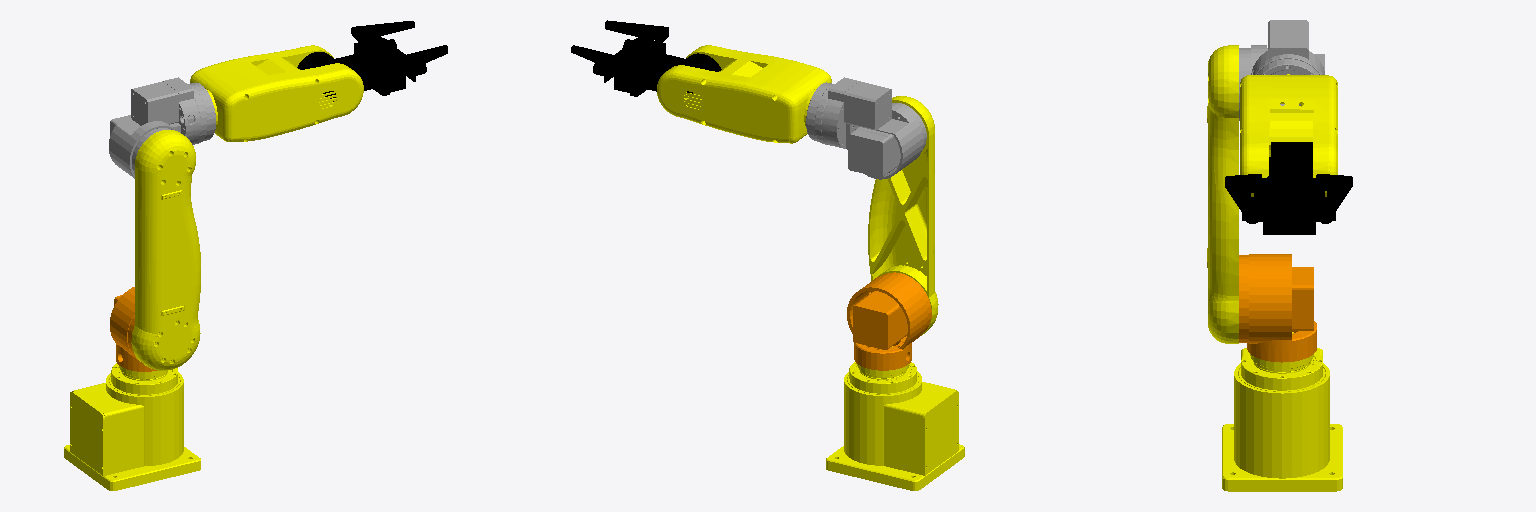
URDF robot description (new_arm):
<?xml version="1.0" encoding="utf-8"?>
<!-- This URDF was automatically created by SolidWorks to URDF Exporter! Originally created by [author] ([email redacted]) 
     Commit Version: 1.6.0-4-g7f85cfe  Build Version: 1.6.7995.38578
     For more information, please see http://wiki.ros.org/sw_urdf_exporter -->
<robot
  name="new_arm">
  <link
    name="base_link">
    <inertial>
      <origin
        xyz="0.00012027184216136 -0.000110225979837793 0.100099668100807"
        rpy="0 0 0" />
      <mass
        value="0.00137242734628835" />
      <inertia
        ixx="4.93979095549687E-07"
        ixy="-7.18253026975473E-23"
        ixz="2.47584030144931E-23"
        iyy="4.93979095549688E-07"
        iyz="9.07370670625977E-25"
        izz="9.85513400197068E-07" />
    </inertial>
    <visual>
      <origin
        xyz="0 0 0"
        rpy="0 0 0" />
      <geometry>
        <mesh
          filename="package://new_arm/meshes/base_link.STL" />
      </geometry>
      <material
        name="">
        <color
          rgba="1 1 0 1" />
      </material>
    </visual>
    <collision>
      <origin
        xyz="0 0 0"
        rpy="0 0 0" />
      <geometry>
        <mesh
          filename="package://new_arm/meshes/base_link.STL" />
      </geometry>
    </collision>
  </link>
  <link
    name="1_Link">
    <inertial>
      <origin
        xyz="0.000120271842160374 -0.0447893653096206 0.0453999999999996"
        rpy="0 0 0" />
      <mass
        value="0.00131108775038631" />
      <inertia
        ixx="4.84275957119598E-07"
        ixy="1.06491144145097E-22"
        ixz="-3.1887906187469E-23"
        iyy="9.66094911856522E-07"
        iyz="4.44179641532351E-23"
        izz="4.84275957119598E-07" />
    </inertial>
    <visual>
      <origin
        xyz="0 0 0"
        rpy="0 0 0" />
      <geometry>
        <mesh
          filename="package://new_arm/meshes/1_Link.STL" />
      </geometry>
      <material
        name="">
        <color
          rgba="1 0.6 0 1" />
      </material>
    </visual>
    <collision>
      <origin
        xyz="0 0 0"
        rpy="0 0 0" />
      <geometry>
        <mesh
          filename="package://new_arm/meshes/1_Link.STL" />
      </geometry>
    </collision>
  </link>
  <joint
    name="1_join"
    type="revolute">
    <origin
      xyz="0 0 0.1155"
      rpy="0 0 0" />
    <parent
      link="base_link" />
    <child
      link="1_Link" />
    <axis
      xyz="0 0 1" />
    <limit
      lower="-3.05"
      upper="3.05"
      effort="1"
      velocity="0" />
  </joint>
  <link
    name="2_Link">
    <inertial>
      <origin
        xyz="0.000192472426294013 -0.0945429296459426 0.0035344610221747"
        rpy="0 0 0" />
      <mass
        value="0.101643245272993" />
      <inertia
        ixx="0.00054341166795781"
        ixy="-1.21559296393352E-05"
        ixz="1.08666231487326E-07"
        iyy="5.37176770081941E-05"
        iyz="2.15760973431612E-06"
        izz="0.000584569333425057" />
    </inertial>
    <visual>
      <origin
        xyz="0 0 0"
        rpy="0 0 0" />
      <geometry>
        <mesh
          filename="package://new_arm/meshes/2_Link.STL" />
      </geometry>
      <material
        name="">
        <color
          rgba="1 1 0 1" />
      </material>
    </visual>
    <collision>
      <origin
        xyz="0 0 0"
        rpy="0 0 0" />
      <geometry>
        <mesh
          filename="package://new_arm/meshes/2_Link.STL" />
      </geometry>
    </collision>
  </link>
  <joint
    name="2_join"
    type="revolute">
    <origin
      xyz="0.00010086 -0.05551 0.045437"
      rpy="-1.5708 0 0" />
    <parent
      link="1_Link" />
    <child
      link="2_Link" />
    <axis
      xyz="0 0 -1" />
    <limit
      lower="-3.05"
      upper="3.05"
      effort="1"
      velocity="0" />
  </joint>
  <link
    name="3_Link">
    <inertial>
      <origin
        xyz="0.0133258952201139 -0.00410583828256395 0.0232750153646895"
        rpy="0 0 0" />
      <mass
        value="0.000809296258931483" />
      <inertia
        ixx="1.78283138325869E-07"
        ixy="1.07228749406232E-24"
        ixz="3.3247171392602E-24"
        iyy="1.26413626686116E-07"
        iyz="-4.9452068731666E-23"
        izz="2.00721687229904E-07" />
    </inertial>
    <visual>
      <origin
        xyz="0 0 0"
        rpy="0 0 0" />
      <geometry>
        <mesh
          filename="package://new_arm/meshes/3_Link.STL" />
      </geometry>
      <material
        name="">
        <color
          rgba="0.690196078431373 0.690196078431373 0.690196078431373 1" />
      </material>
    </visual>
    <collision>
      <origin
        xyz="0 0 0"
        rpy="0 0 0" />
      <geometry>
        <mesh
          filename="package://new_arm/meshes/3_Link.STL" />
      </geometry>
    </collision>
  </link>
  <joint
    name="3_join"
    type="revolute">
    <origin
      xyz="-0.00010969 -0.20005 0.0185"
      rpy="0 0 0" />
    <parent
      link="2_Link" />
    <child
      link="3_Link" />
    <axis
      xyz="0 0 -1" />
    <limit
      lower="-3.05"
      upper="3.05"
      effort="1"
      velocity="0" />
  </joint>
  <link
    name="4_Link">
    <inertial>
      <origin
        xyz="6.87019915858178E-05 -0.000355824213657143 0.079569974673646"
        rpy="0 0 0" />
      <mass
        value="0.113855209034374" />
      <inertia
        ixx="0.000383167160786053"
        ixy="-3.49590241963328E-07"
        ixz="3.96931495666183E-06"
        iyy="0.000365651820614139"
        iyz="1.23976313155062E-06"
        izz="0.000121865325503606" />
    </inertial>
    <visual>
      <origin
        xyz="0 0 0"
        rpy="0 0 0" />
      <geometry>
        <mesh
          filename="package://new_arm/meshes/4_Link.STL" />
      </geometry>
      <material
        name="">
        <color
          rgba="1 1 0 1" />
      </material>
    </visual>
    <collision>
      <origin
        xyz="0 0 0"
        rpy="0 0 0" />
      <geometry>
        <mesh
          filename="package://new_arm/meshes/4_Link.STL" />
      </geometry>
    </collision>
  </link>
  <joint
    name="4_join"
    type="revolute">
    <origin
      xyz="0.071553 -0.021421 0.042136"
      rpy="-1.5708 0 -1.5708" />
    <parent
      link="3_Link" />
    <child
      link="4_Link" />
    <axis
      xyz="0 0 1" />
    <limit
      lower="-3.05"
      upper="3.05"
      effort="1"
      velocity="0" />
  </joint>
  <link
    name="5_Link">
    <inertial>
      <origin
        xyz="0.0234333615612934 -2.07164631926826E-05 -0.0167505450738613"
        rpy="0 0 0" />
      <mass
        value="0.04488608490997" />
      <inertia
        ixx="1.31426559954384E-05"
        ixy="3.30348990187723E-08"
        ixz="-5.26497717741656E-07"
        iyy="3.06725882559894E-05"
        iyz="1.49766876747997E-09"
        izz="3.37782442895733E-05" />
    </inertial>
    <visual>
      <origin
        xyz="0 0 0"
        rpy="0 0 0" />
      <geometry>
        <mesh
          filename="package://new_arm/meshes/5_Link.STL" />
      </geometry>
      <material
        name="">
        <color
          rgba="0 0 0 1" />
      </material>
    </visual>
    <collision>
      <origin
        xyz="0 0 0"
        rpy="0 0 0" />
      <geometry>
        <mesh
          filename="package://new_arm/meshes/5_Link.STL" />
      </geometry>
    </collision>
  </link>
  <joint
    name="5_join"
    type="revolute">
    <origin
      xyz="-0.00013107 -0.016964 0.14858"
      rpy="-1.5752 -1.5708 3.1416" />
    <parent
      link="4_Link" />
    <child
      link="5_Link" />
    <axis
      xyz="0 0 -1" />
    <limit
      lower="-3.05"
      upper="3.05"
      effort="1"
      velocity="0" />
  </joint>
  <link
    name="6_Link">
    <inertial>
      <origin
        xyz="0.00534355698495642 -0.000117330013118231 0.0202068169966816"
        rpy="0 0 0" />
      <mass
        value="0.0930953314559142" />
      <inertia
        ixx="6.34028894812872E-05"
        ixy="-6.83112393814448E-07"
        ixz="-4.18895930504924E-06"
        iyy="3.13825063977606E-05"
        iyz="-7.33373636380612E-07"
        izz="6.18259321789603E-05" />
    </inertial>
    <visual>
      <origin
        xyz="0 0 0"
        rpy="0 0 0" />
      <geometry>
        <mesh
          filename="package://new_arm/meshes/6_Link.STL" />
      </geometry>
      <material
        name="">
        <color
          rgba="0 0 0 1" />
      </material>
    </visual>
    <collision>
      <origin
        xyz="0 0 0"
        rpy="0 0 0" />
      <geometry>
        <mesh
          filename="package://new_arm/meshes/6_Link.STL" />
      </geometry>
    </collision>
  </link>
  <joint
    name="6_join"
    type="revolute">
    <origin
      xyz="0.05286 -5.5958E-05 -0.016964"
      rpy="-1.5708 0.0044278 -1.5708" />
    <parent
      link="5_Link" />
    <child
      link="6_Link" />
    <axis
      xyz="0 0 1" />
    <limit
      lower="-3.05"
      upper="3.05"
      effort="1"
      velocity="0" />
  </joint>
</robot>

--- What the picture shows (computed from the rendered views, not written in the file) ---
The picture shows the robot from 3 angles, left to right: view 1: azimuth 30°, elevation 25°; view 2: azimuth 150°, elevation 25°; view 3: azimuth 270°, elevation 25°; orthographic projection.
Model new_arm with 7 links and 6 joints (6 revolute), rooted at base_link, posed every joint at zero.
Links seen in each view (by area): view 1: 2_Link, base_link, 4_Link, 3_Link, 6_Link, 1_Link, 5_Link; view 2: base_link, 4_Link, 3_Link, 2_Link, 1_Link, 6_Link, 5_Link; view 3: base_link, 2_Link, 4_Link, 1_Link, 6_Link, 3_Link, 5_Link.
Link boxes in pixels (box(x1,y1,x2,y2)): 2_Link: box(131, 130, 200, 370); base_link: box(64, 363, 200, 490); 4_Link: box(190, 45, 363, 141); 3_Link: box(109, 77, 215, 178); 6_Link: box(351, 21, 447, 95); 1_Link: box(110, 287, 157, 371); 5_Link: box(297, 52, 377, 101); base_link: box(826, 346, 964, 490); 4_Link: box(657, 45, 831, 143); 3_Link: box(806, 77, 926, 179); 2_Link: box(868, 96, 938, 335); 1_Link: box(847, 272, 931, 370); 6_Link: box(571, 20, 668, 96); 5_Link: box(642, 52, 721, 93); base_link: box(1222, 332, 1342, 491); 2_Link: box(1207, 45, 1238, 343); 4_Link: box(1240, 74, 1337, 196); 1_Link: box(1239, 254, 1316, 362); 6_Link: box(1225, 174, 1352, 234); 3_Link: box(1239, 20, 1324, 120); 5_Link: box(1268, 142, 1312, 177).
Size in the robot's own frame: 0.4171 by 0.1242 by 0.4197 metres.
Meshes: 7 distinct files referenced, 7 mesh visuals loaded (7 binary STL).